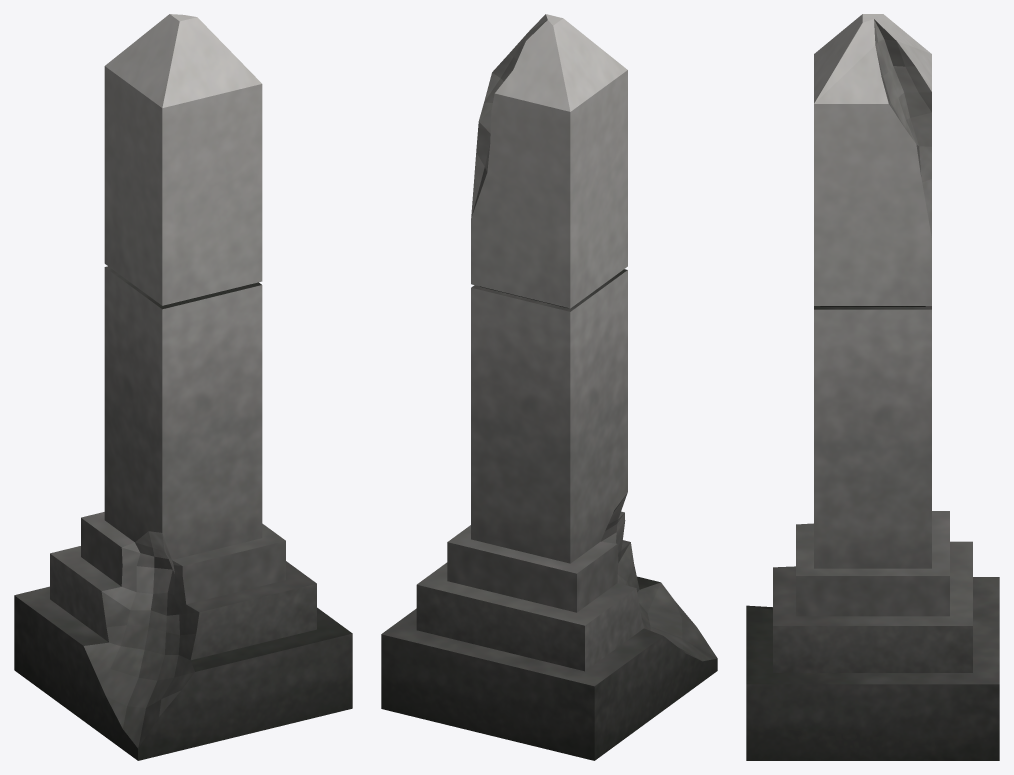
The model's file is Monolito_03.fbx.
The picture shows the model from 3 angles, left to right: view 1: azimuth 30°, elevation 25°; view 2: azimuth 150°, elevation 25°; view 3: azimuth 270°, elevation 25°; orthographic projection. The views are drawn at different scales.
Visible parts, largest first — view 1: Cube.003; view 2: Cube.003; view 3: Cube.003.
Part boxes in pixels (x1,y1,x2,y2): Cube.003: (14,14,352,760); Cube.003: (381,14,717,760); Cube.003: (746,14,999,760).
Bounding box in the file's own units: 3 × 9 × 3.
